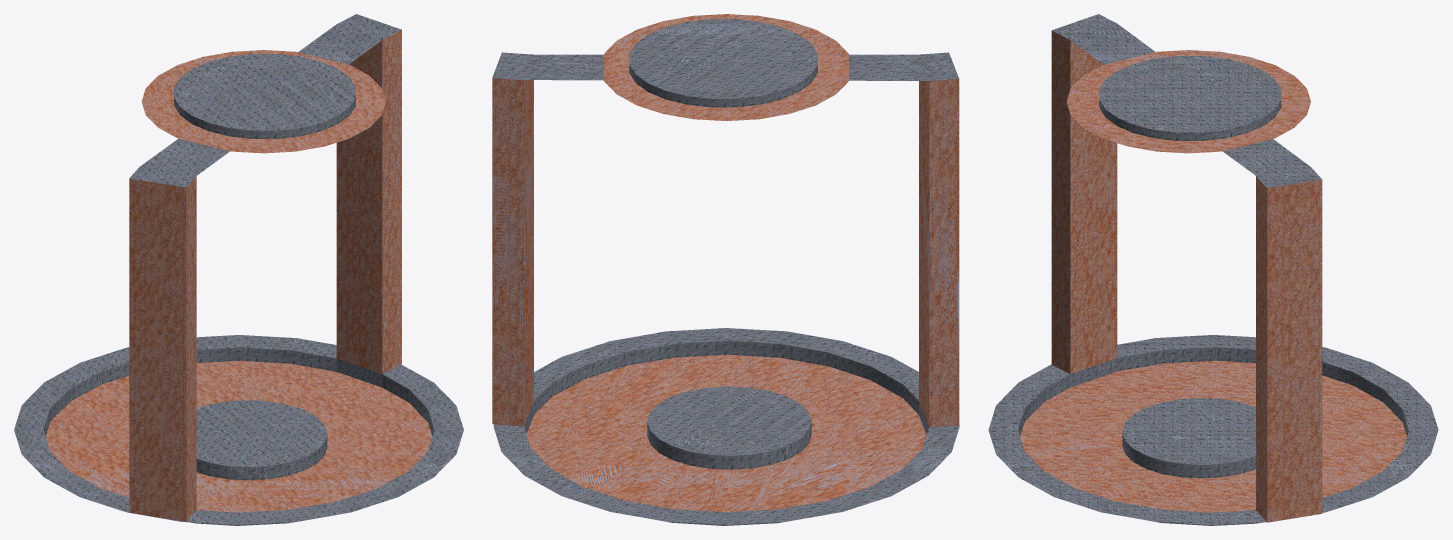
File: Teleporter.dae
3 views of the same model, side by side, from view 1: azimuth 30°, elevation 25°; view 2: azimuth 150°, elevation 25°; view 3: azimuth 270°, elevation 25° (orthographic). The views are drawn at different scales.
Visible parts, largest first — view 1: SketchUp (×9); view 2: SketchUp (×9); view 3: SketchUp (×9).
Part boxes in pixels (x1=…): SketchUp (×9): x1=14, y1=14, x2=463, y2=525; SketchUp (×9): x1=492, y1=14, x2=959, y2=525; SketchUp (×9): x1=988, y1=14, x2=1438, y2=525.
Size of the model in its own units: 96.06 by 96.06 by 83.86.
4 materials, 2 textured.
